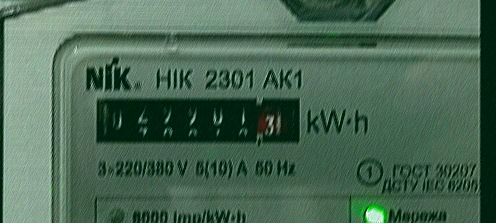0: (209, 101, 224, 126), (108, 107, 123, 129)
1: (236, 101, 248, 125)
2: (134, 102, 149, 124)
3: (261, 113, 276, 136)
9: (185, 103, 197, 126), (160, 102, 172, 123)
screen: (87, 90, 308, 152)
